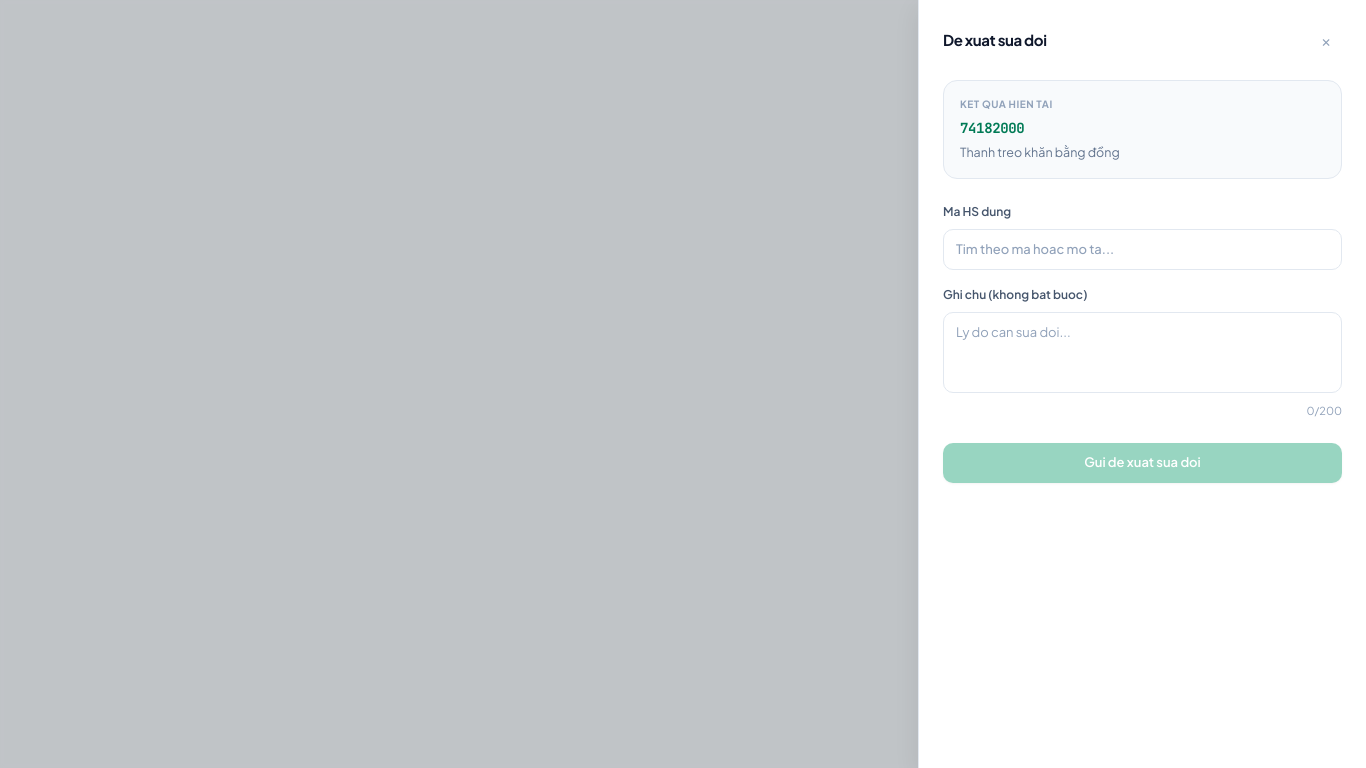
Test: CorrectionPanel › shows pending success message on successful submit (AC #2)
// Type in search box to trigger autocomplete
Type "74199900" into the field with placeholder "Tim theo ma hoac mo ta..." at (1142,250), box x1=943 y1=229 x2=1342 y2=270
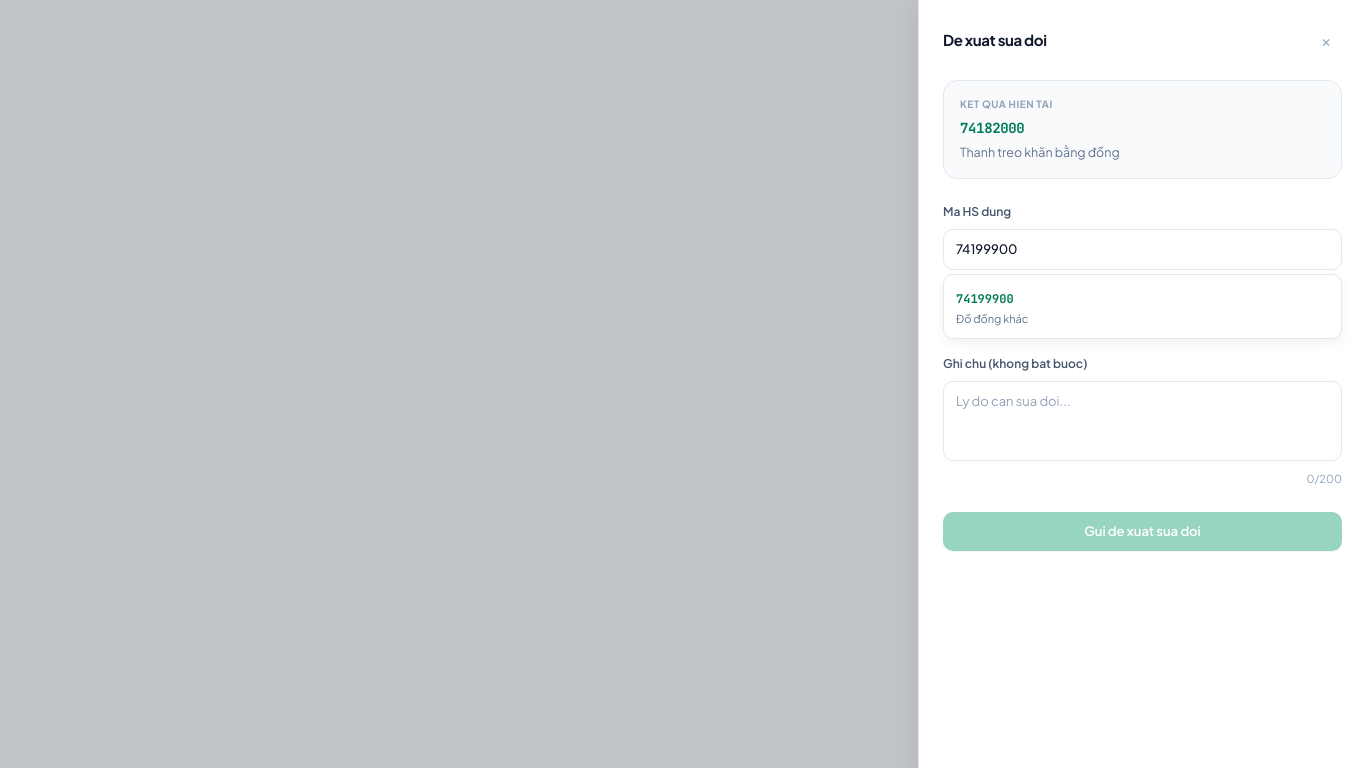
Check: the text "74199900" is shown
Click the text "74199900" at (985,299), box x1=956 y1=291 x2=1014 y2=307
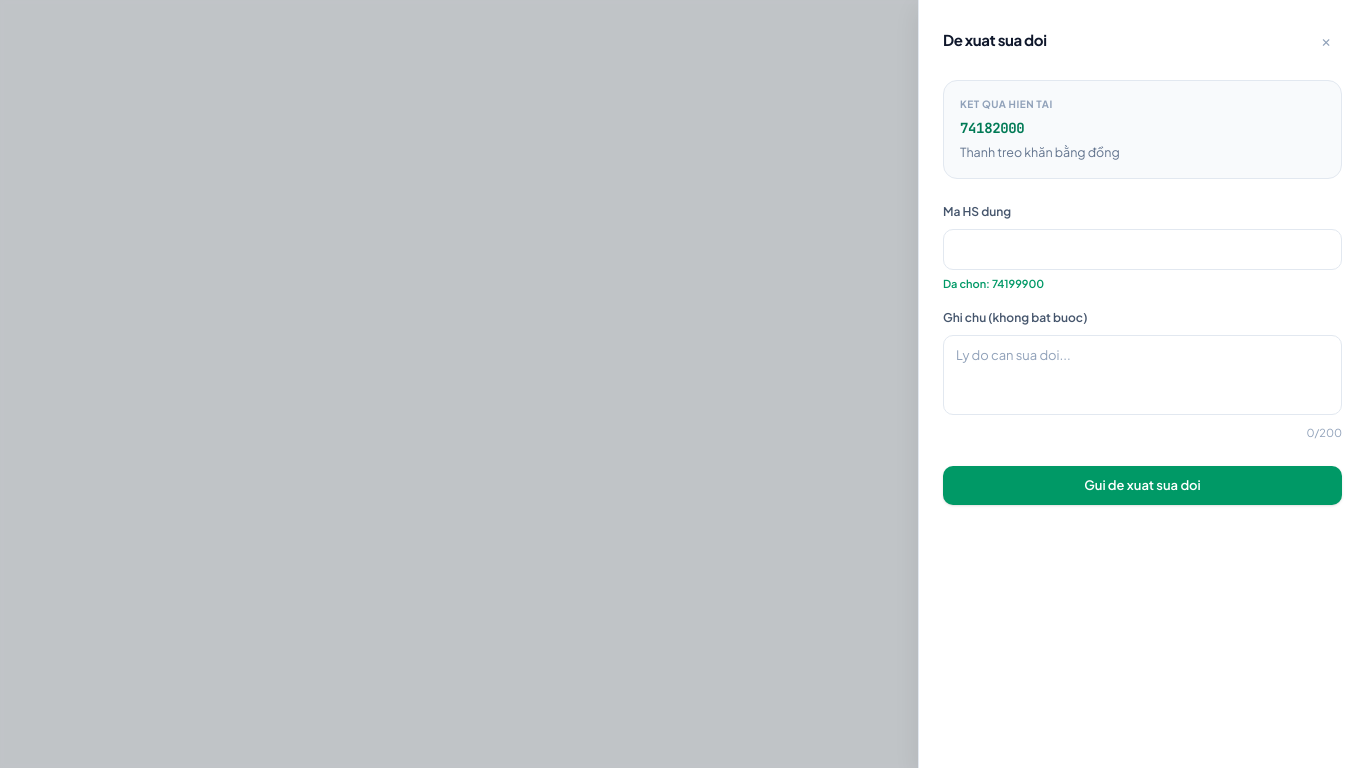
// Click submit button
Click the button "Gui de xuat sua doi" at (1142,486), box x1=943 y1=466 x2=1342 y2=505
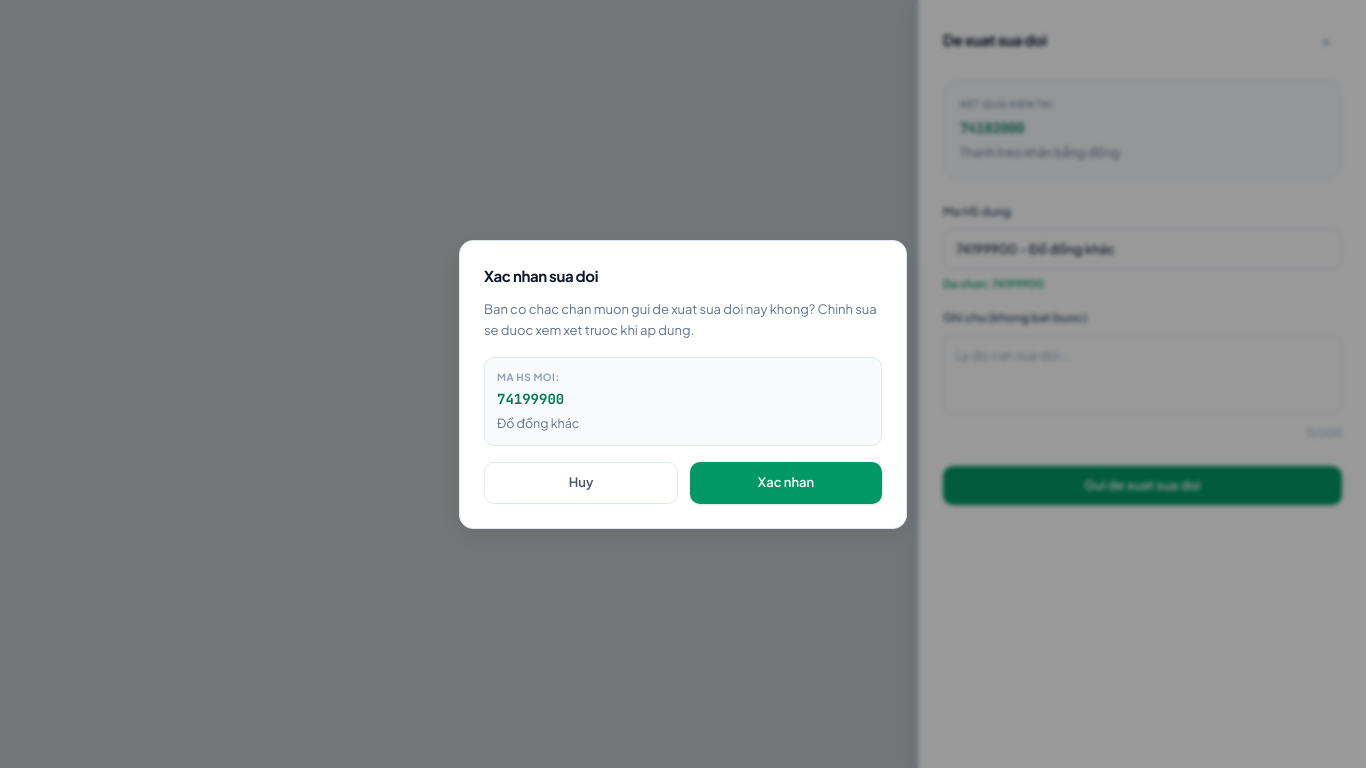
Check: the heading "Xac nhan sua doi" is shown, box x1=484 y1=266 x2=598 y2=284
// Click confirm
Click the button "Xac nhan" at (786,483), box x1=690 y1=462 x2=882 y2=504
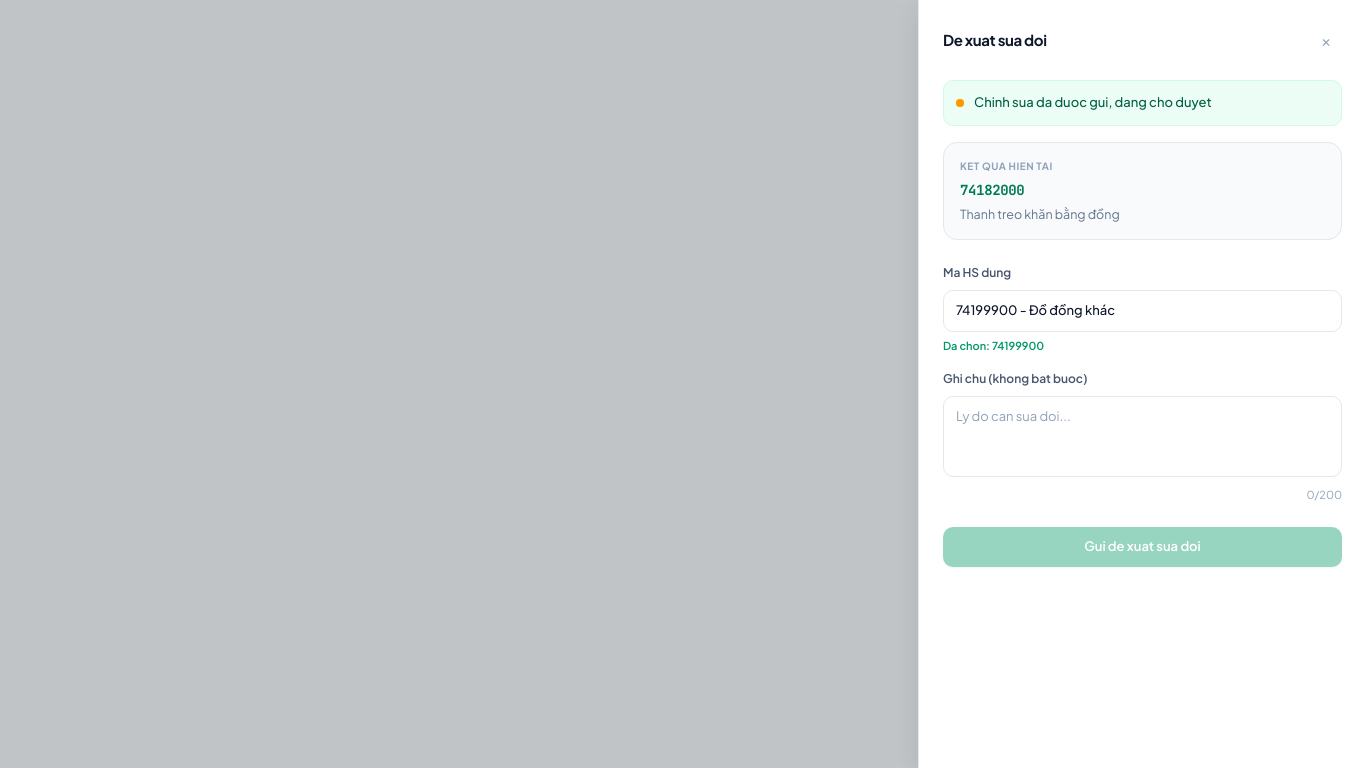
Check: the text "Chinh sua da duoc gui, dang cho duyet" is shown, box x1=943 y1=80 x2=1342 y2=126
